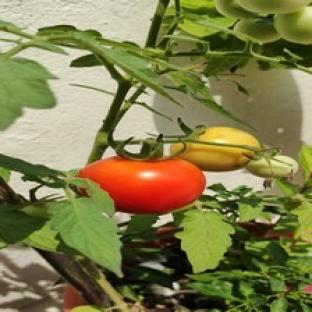Tomato: (80, 156, 206, 214), (179, 127, 260, 171), (275, 7, 311, 44), (246, 155, 299, 178), (234, 17, 279, 43)
